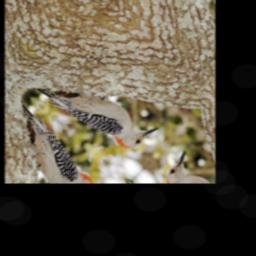Woodpecker: (26, 47, 164, 174)
